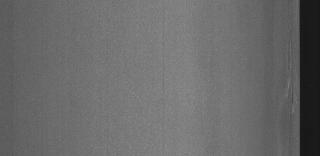silk spot: (280, 6, 298, 154)
